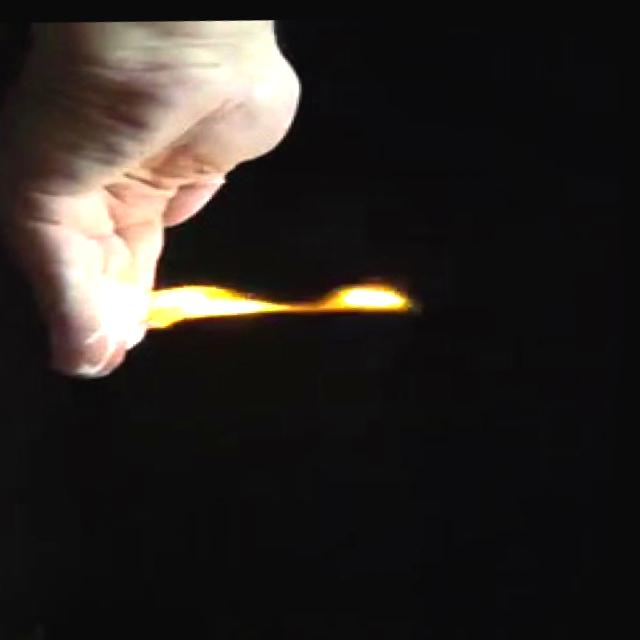no_helmet: (86, 258, 425, 349)
